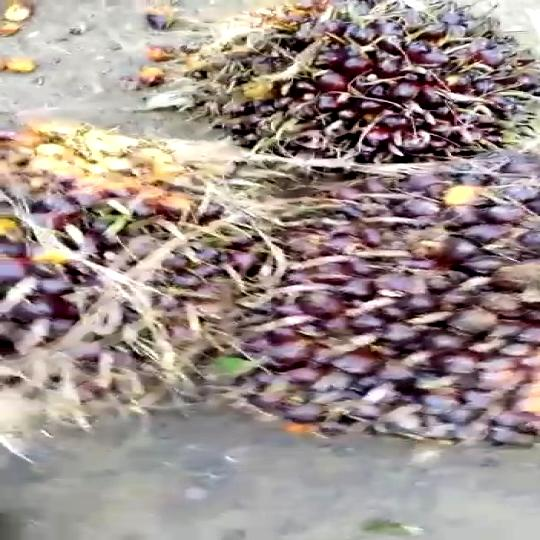kurang masak: (250, 114, 540, 493), (0, 112, 285, 469), (156, 0, 538, 209)
